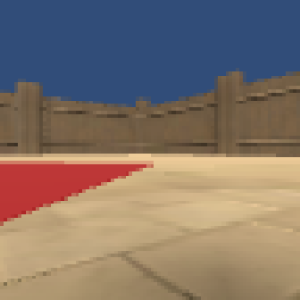deathZone: (1, 157, 152, 234)
